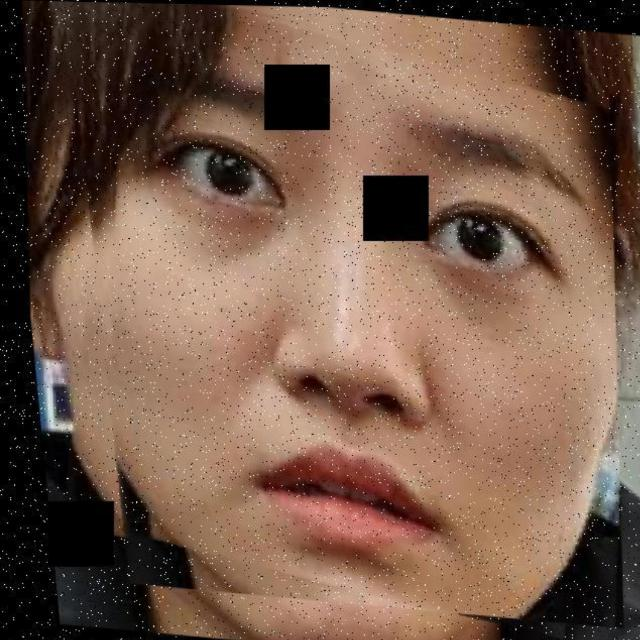Disgust: (97, 5, 575, 631)
